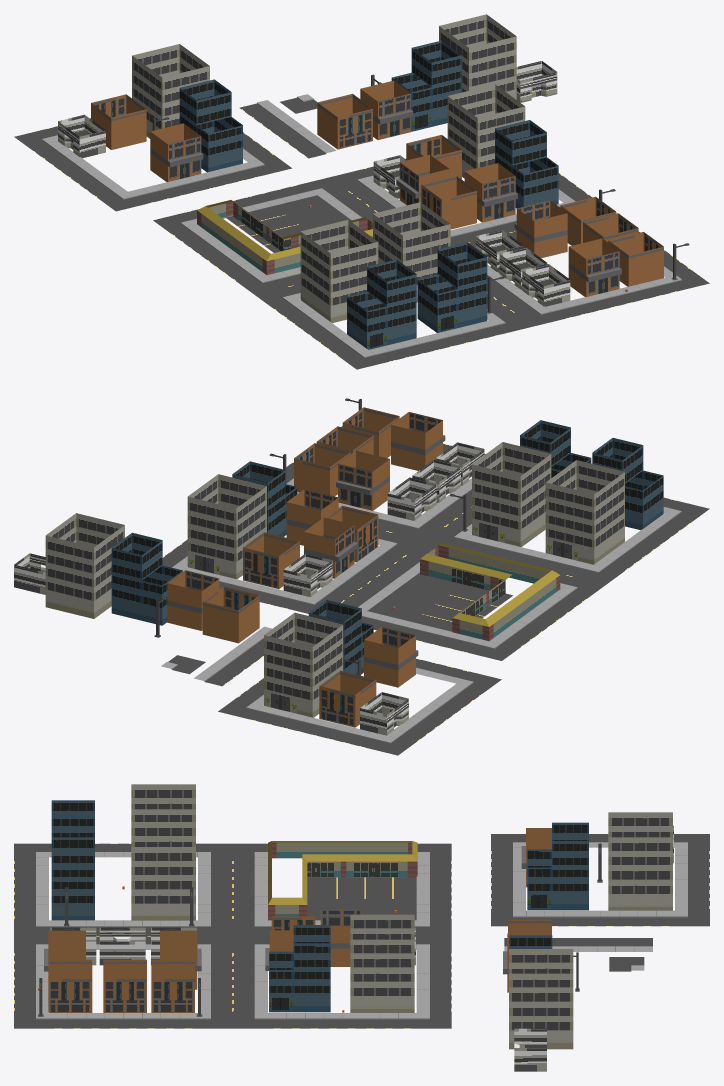
The model's file is city_grid.gltf.
3 views of the same model, one above another, from view 1: azimuth 30°, elevation 25°; view 2: azimuth 150°, elevation 25°; view 3: azimuth 270°, elevation 25° (orthographic). The views are drawn at different scales.
Parts seen in each view (by area): view 1: gt_tan_highrise.005, gt_blue_building.003, gt_blue_building.004, gt_tan_highrise.002, gt_tan_highrise.001, gt_tan_highrise.003, gt_tan_highrise.004, gt_blue_building.002, gt_blue_building, gt_blue_building.001, parking_lot, gt_orange.004 (+33 smaller); view 2: gt_tan_highrise.005, gt_tan_highrise.004, gt_tan_highrise.003, gt_tan_highrise.001, gt_tan_highrise.002, gt_blue_building.001, parking_lot, gt_blue_building.004, mall_2, mall_1, gt_red_building.002, gt_orange.004 (+34 smaller); view 3: gt_tan_highrise.001, gt_tan_highrise.003, gt_tan_highrise.004, gt_tan_highrise.002, gt_blue_building.002, gt_blue_building, mall_1, parking_lot, gt_blue_building.003, gt_tan_highrise.005, gt_red_building.005, street.002 (+51 smaller).
Boxes of the visible parts, x1,y1,x2,y2 form: gt_tan_highrise.005: [300, 220, 378, 322]; gt_blue_building.003: [417, 242, 487, 332]; gt_blue_building.004: [347, 259, 416, 349]; gt_tan_highrise.002: [439, 14, 516, 99]; gt_tan_highrise.001: [447, 84, 525, 178]; gt_tan_highrise.003: [132, 44, 209, 138]; gt_tan_highrise.004: [373, 202, 450, 302]; gt_blue_building.002: [179, 79, 242, 172]; gt_blue_building: [495, 120, 558, 208]; gt_blue_building.001: [391, 40, 461, 131]; parking_lot: [226, 195, 351, 252]; gt_orange.004: [150, 123, 203, 181]; gt_tan_highrise.005: [545, 460, 624, 564]; gt_tan_highrise.004: [472, 442, 551, 546]; gt_tan_highrise.003: [264, 612, 343, 717]; gt_tan_highrise.001: [187, 474, 266, 579]; gt_tan_highrise.002: [45, 513, 124, 618]; gt_blue_building.001: [111, 532, 182, 625]; parking_lot: [367, 572, 512, 631]; gt_blue_building.004: [592, 438, 663, 530]; mall_2: [420, 543, 528, 594]; mall_1: [452, 576, 543, 640]; gt_red_building.002: [202, 586, 259, 643]; gt_orange.004: [364, 627, 418, 687]; gt_tan_highrise.001: [350, 914, 414, 1012]; gt_tan_highrise.003: [608, 812, 672, 910]; gt_tan_highrise.004: [131, 822, 195, 920]; gt_tan_highrise.002: [509, 949, 573, 1049]; gt_blue_building.002: [527, 822, 588, 910]; gt_blue_building: [269, 925, 330, 1012]; mall_1: [302, 841, 417, 877]; parking_lot: [307, 877, 416, 920]; gt_blue_building.003: [51, 837, 94, 920]; gt_tan_highrise.005: [131, 784, 195, 821]; gt_red_building.005: [48, 959, 92, 1012]; street.002: [268, 1013, 416, 1028].
Size of the model in its own units: 512 by 76 by 636.
Materials: 9 (7 with a texture image).
